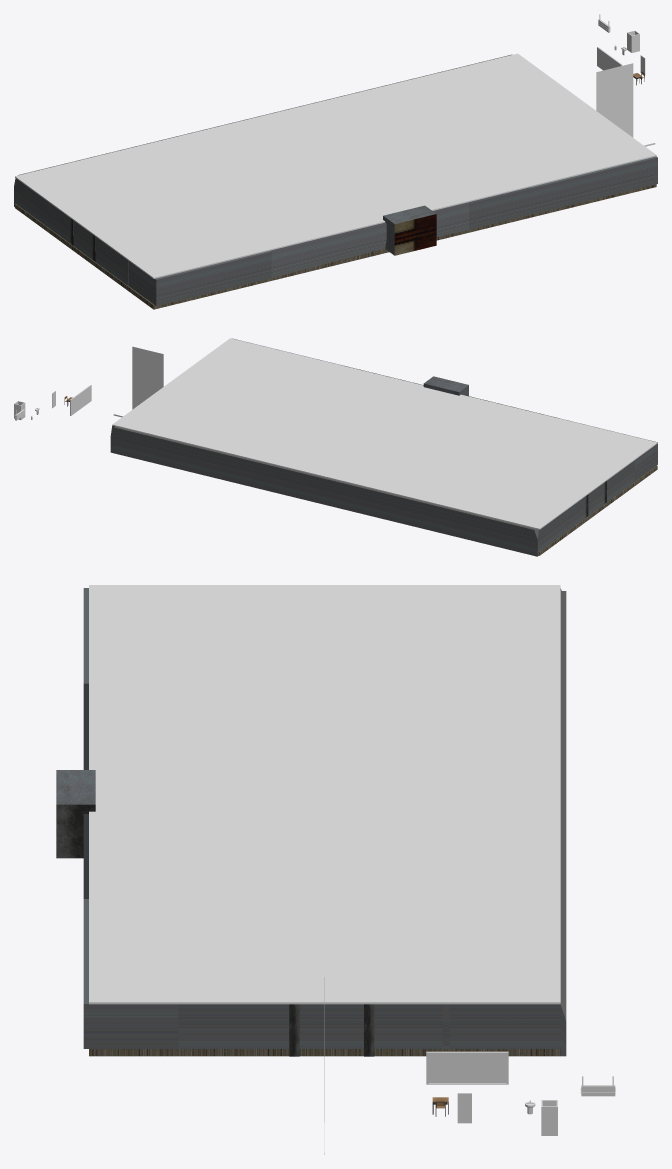
File: Interior_EscuelaVS2.fbx
3 views of the same model, one above another, from view 1: azimuth 30°, elevation 25°; view 2: azimuth 150°, elevation 25°; view 3: azimuth 270°, elevation 25° (orthographic). The views are drawn at different scales.
Visible parts, largest first — view 1: Plane.011, Cube.004, Plane, Puerta, Cube, Cube.001; view 2: Plane.011, Cube.004, Cube, Plane, Puerta, Cube.001, Plane.002; view 3: Plane.011, Cube.004, Plane, Puerta, Plane.002.
Part boxes in pixels (x1,y1,x2,y2): Plane.011: (15, 53, 656, 278); Cube.004: (14, 54, 657, 306); Plane: (15, 184, 656, 309); Puerta: (383, 205, 436, 255); Cube: (618, 63, 655, 146); Cube.001: (596, 67, 617, 126); Plane.011: (112, 338, 657, 529); Cube.004: (110, 338, 657, 556); Cube: (113, 346, 150, 417); Plane: (539, 465, 657, 555); Puerta: (423, 376, 468, 395); Cube.001: (150, 351, 163, 395); Plane.002: (70, 385, 91, 415); Plane.011: (89, 585, 560, 1004); Cube.004: (83, 588, 566, 1056); Plane: (89, 1049, 560, 1056); Puerta: (56, 770, 95, 858); Plane.002: (426, 1051, 508, 1084).
Size of the model in its own units: 23318 by 3111 by 10729.
19 materials, 17 textured.
